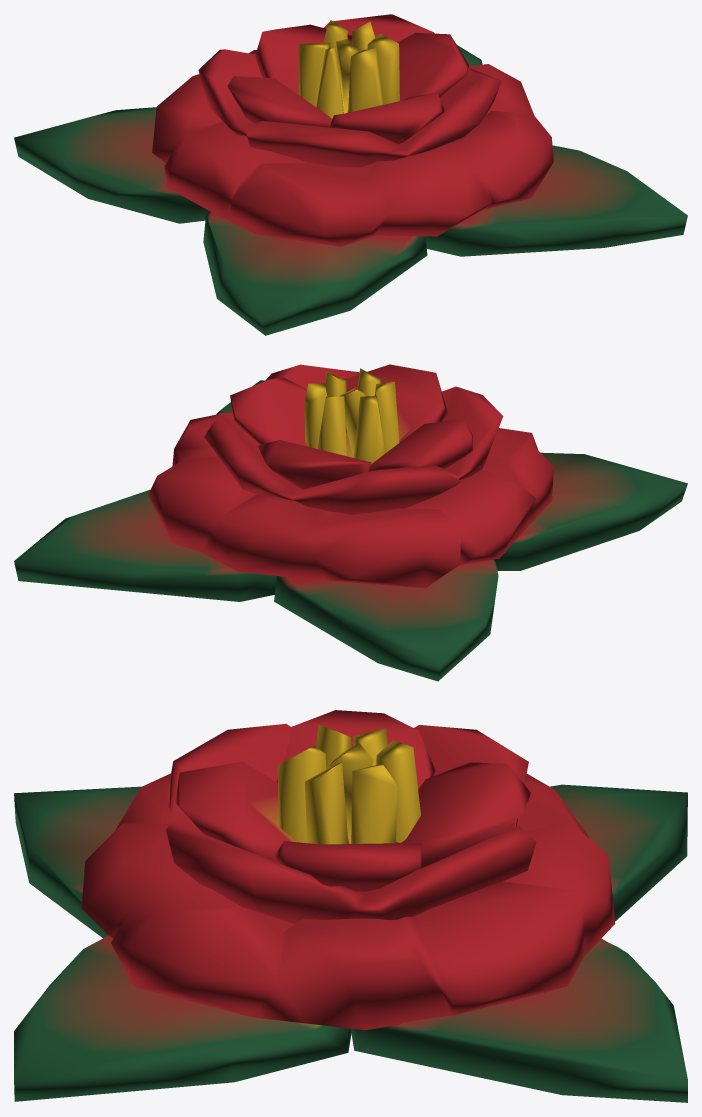
File: forage_camellia.glb
3 renders of one model, top to bottom at view 1: azimuth 30°, elevation 25°; view 2: azimuth 150°, elevation 25°; view 3: azimuth 270°, elevation 25°, orthographic. The views are drawn at different scales.
Parts seen in each view (by area): view 1: forage_camellia; view 2: forage_camellia; view 3: forage_camellia.
Part boxes in pixels (x1,y1,x2,y2): forage_camellia: (14,14,687,335); forage_camellia: (14,364,687,681); forage_camellia: (14,710,687,1102).
Bounding box in the file's own units: 1 × 0.3566 × 1.
